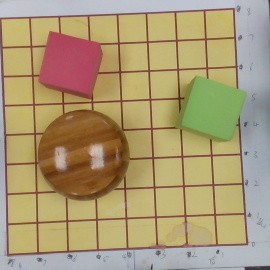chess: (39, 109, 128, 201)
